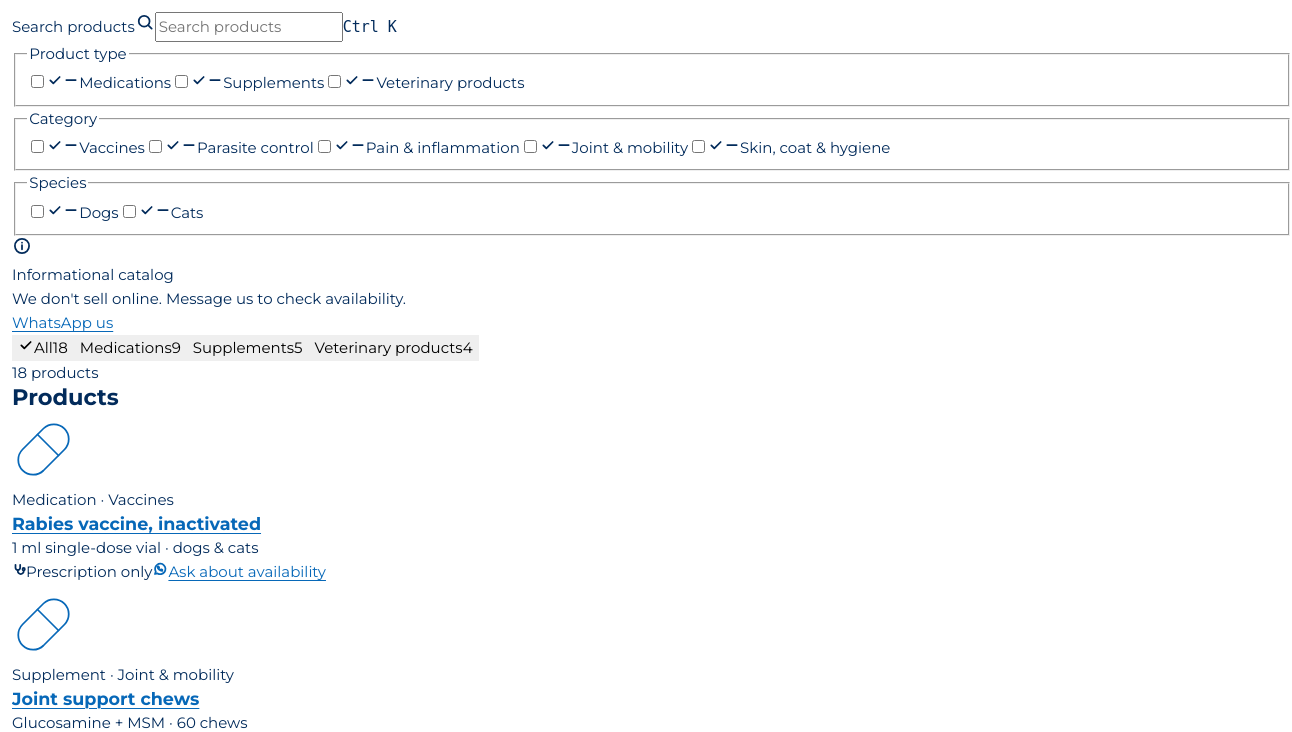
Test case: ProductCatalog kind chips › goes back to every kind with the All chip
Click the button "Veterinary products4" at x=394, y=348, box [309,335,479,361]
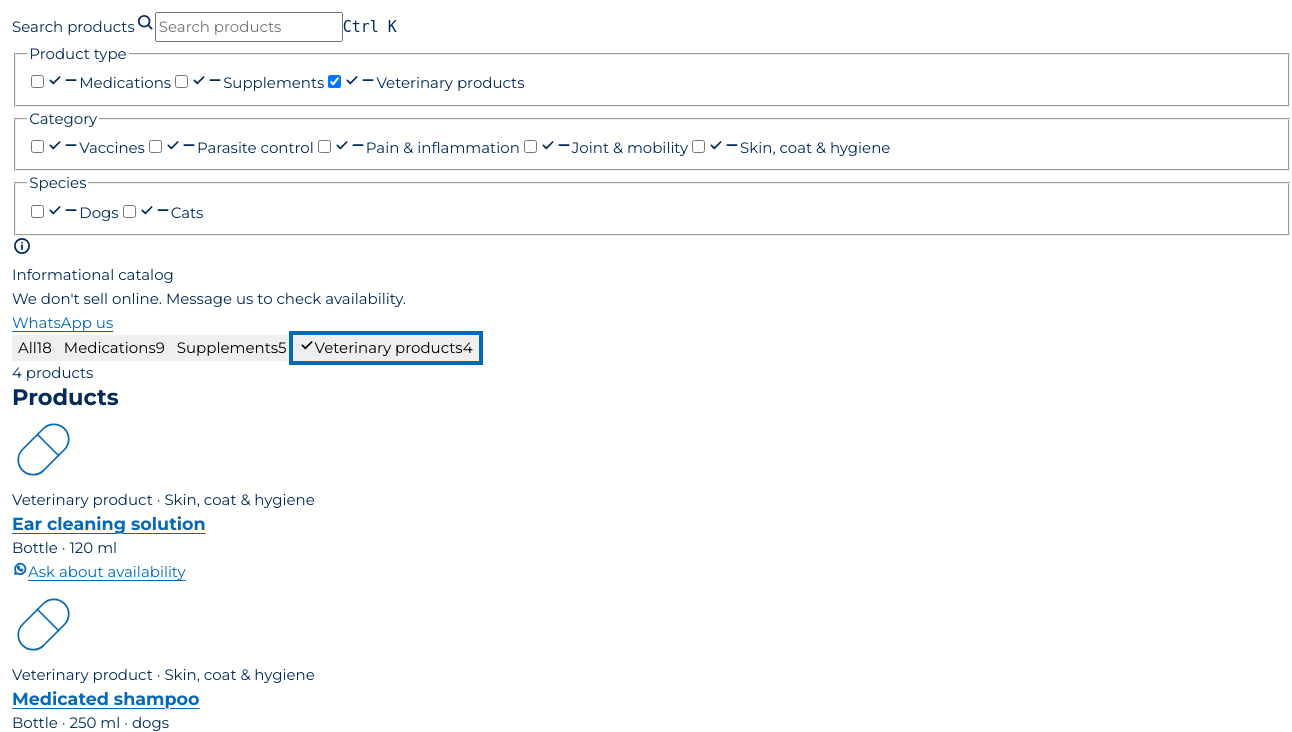
Click the button "All18" at x=35, y=348, box [12,335,58,361]
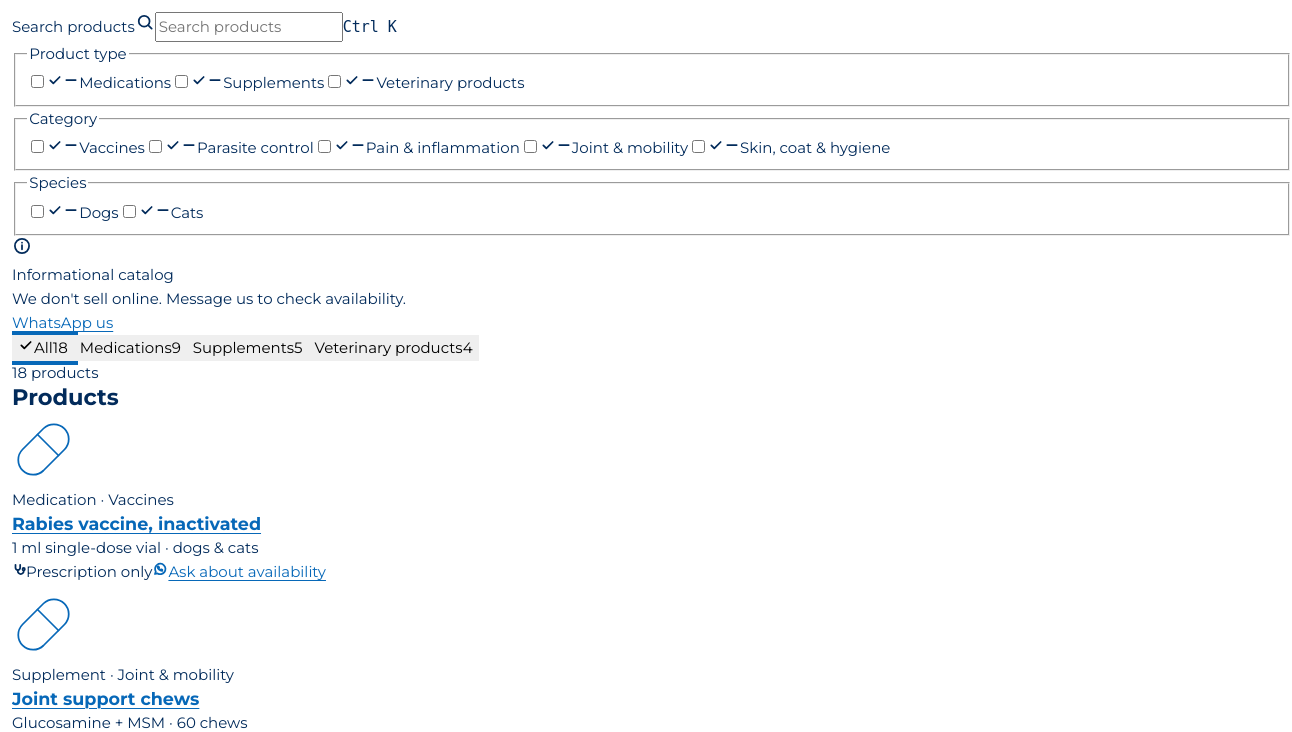
Expected: the text "18 products" is shown, [12,363,98,382]
